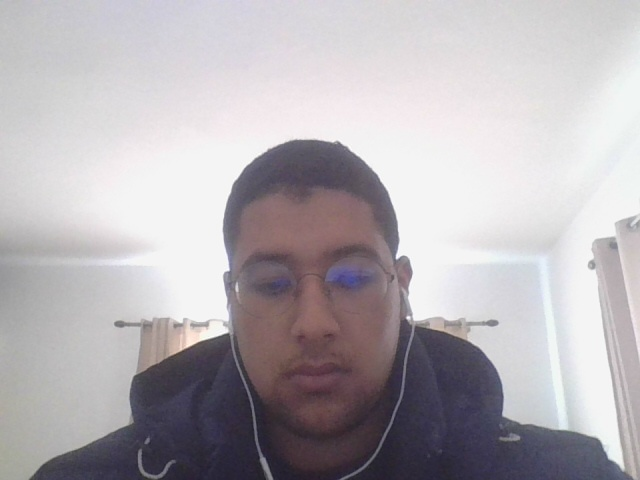real: (197, 117, 429, 446)
